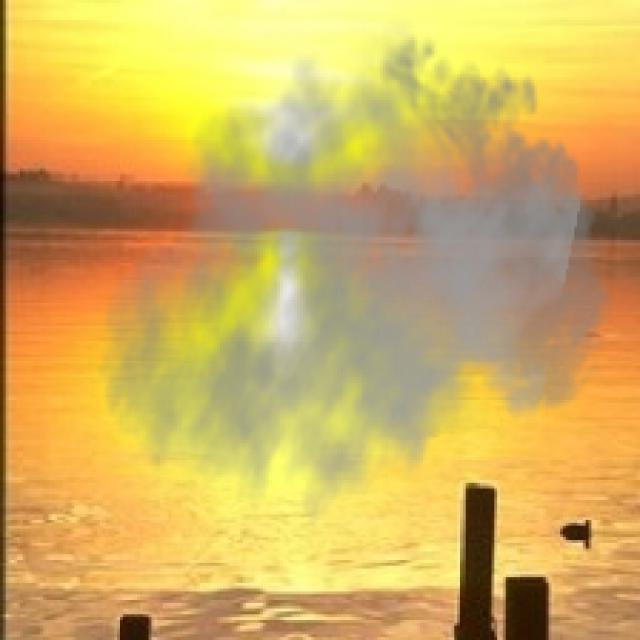smoke: (97, 14, 620, 549)
